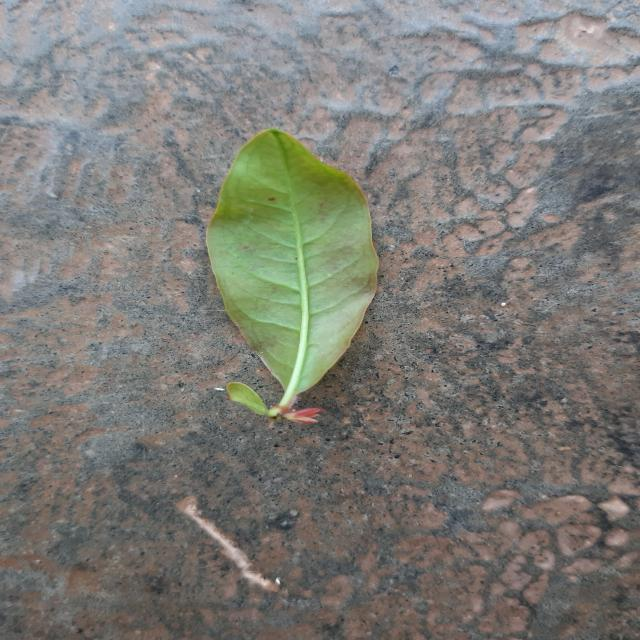pomgranate: (207, 129, 378, 422)
